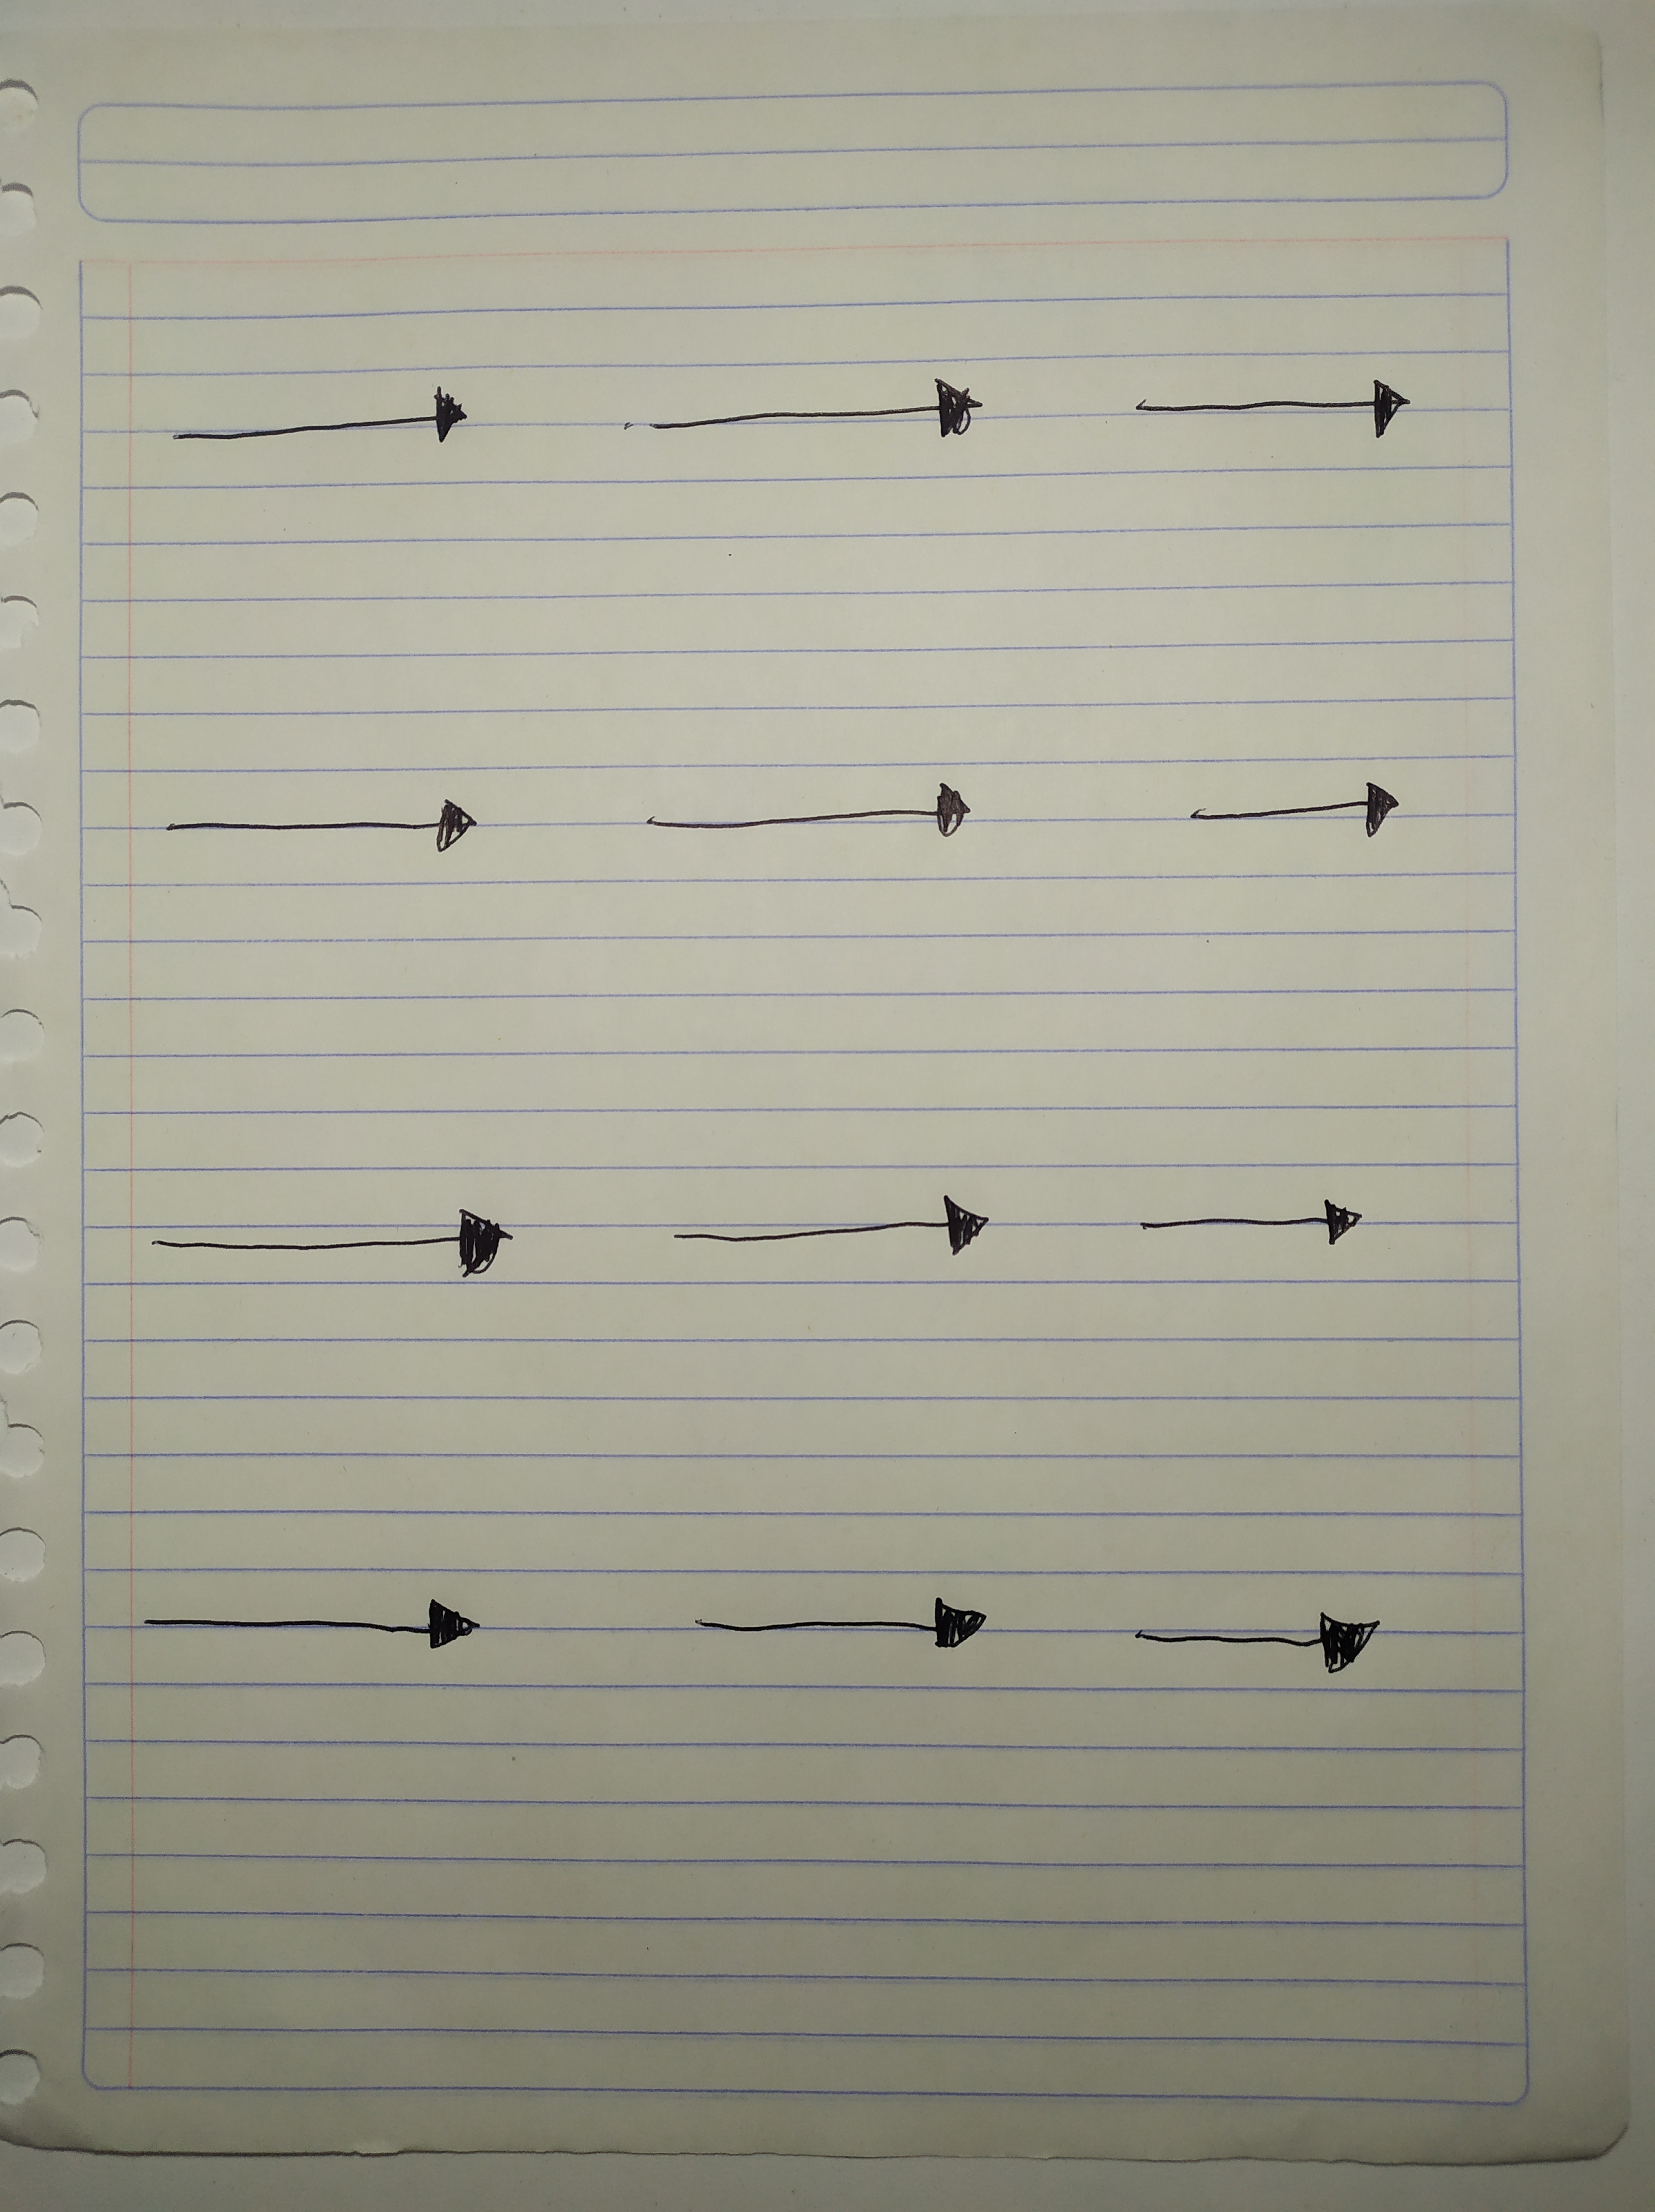arrow_line_right: (635, 1183, 1045, 1307), (582, 361, 1027, 471), (593, 756, 1029, 864), (139, 360, 515, 483), (104, 1564, 511, 1677), (111, 1195, 549, 1293), (139, 766, 499, 878), (1085, 360, 1441, 471), (661, 1569, 1010, 1670), (1102, 1592, 1417, 1692), (1163, 763, 1452, 865), (1099, 1178, 1389, 1279)
